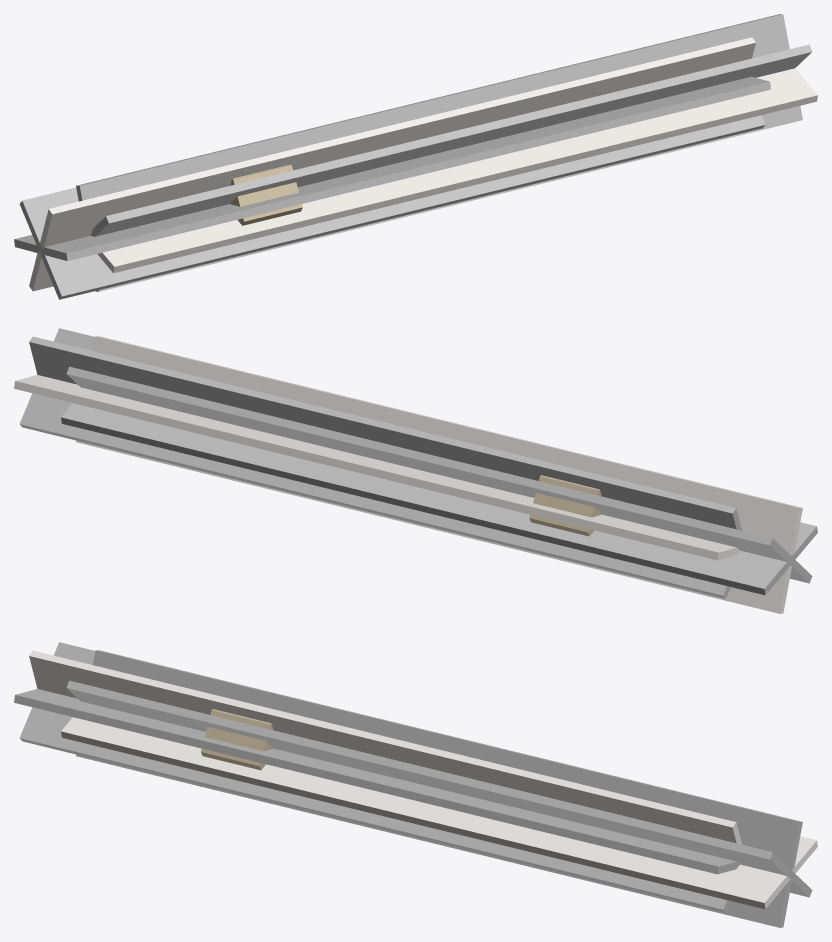
Rendered from prop-feather-bundle.fbx.
3 views of the same model, one above another, from view 1: azimuth 30°, elevation 25°; view 2: azimuth 150°, elevation 25°; view 3: azimuth 330°, elevation 25° (orthographic).
Visible parts, largest first — view 1: prop-feather-bundle; view 2: prop-feather-bundle; view 3: prop-feather-bundle.
Part boxes in pixels (x1=…): prop-feather-bundle: x1=14, y1=14, x2=817, y2=299; prop-feather-bundle: x1=14, y1=328, x2=817, y2=613; prop-feather-bundle: x1=14, y1=642, x2=817, y2=927.
Size of the model in its own units: 32 by 3.84 by 3.95.
